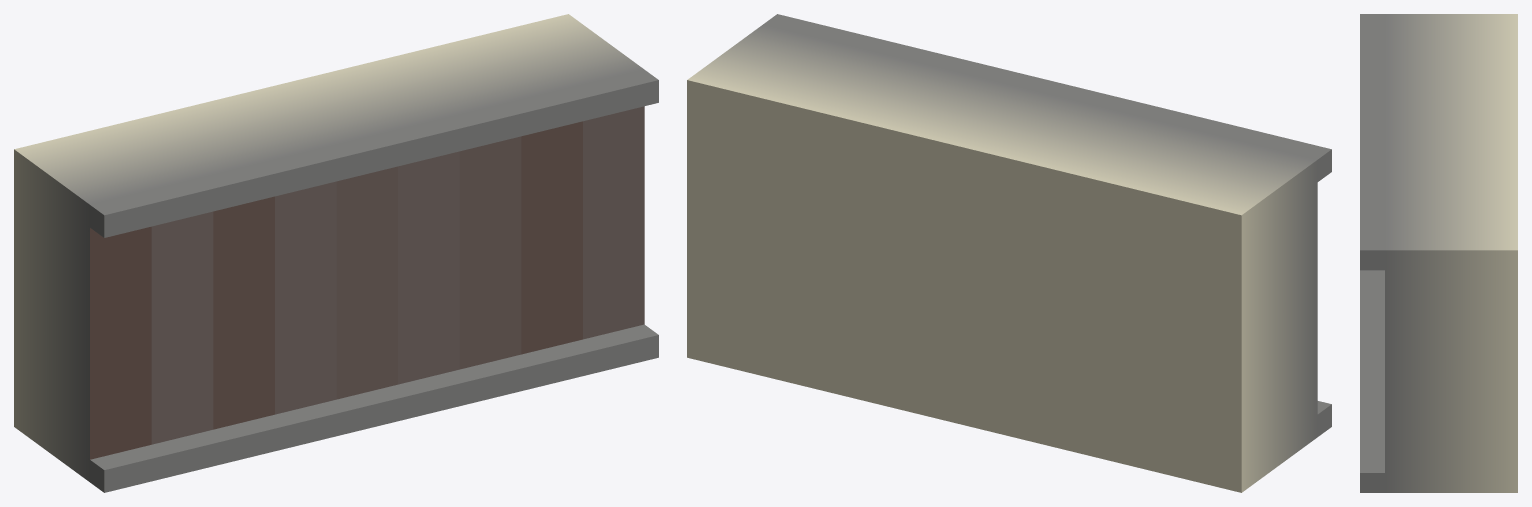
File: B02_intersection_etage_4.fbx
3 views of the same model, side by side, from view 1: azimuth 30°, elevation 25°; view 2: azimuth 150°, elevation 25°; view 3: azimuth 270°, elevation 25° (orthographic). The views are drawn at different scales.
Parts seen in each view (by area): view 1: B02_intersection_etage_4; view 2: B02_intersection_etage_4; view 3: B02_intersection_etage_4.
Part boxes in pixels (x1,y1,x2,y2): B02_intersection_etage_4: (14, 14, 658, 492); B02_intersection_etage_4: (687, 14, 1331, 492); B02_intersection_etage_4: (1360, 14, 1517, 492).
Size of the model in its own units: 500 by 239 by 141.
